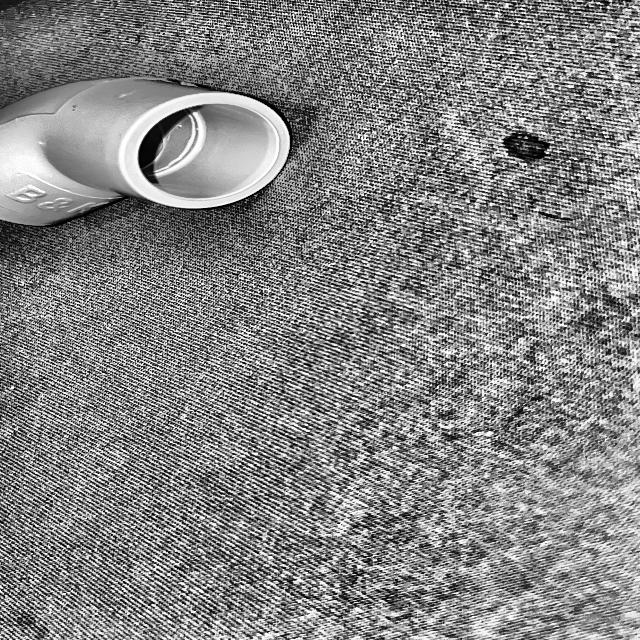ELBOW45: (0, 78, 293, 229)
